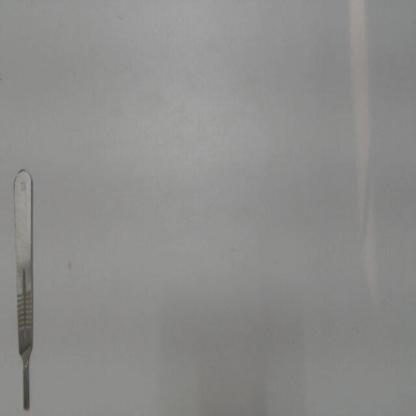No.4 BP Handle: (10, 162, 38, 414)
